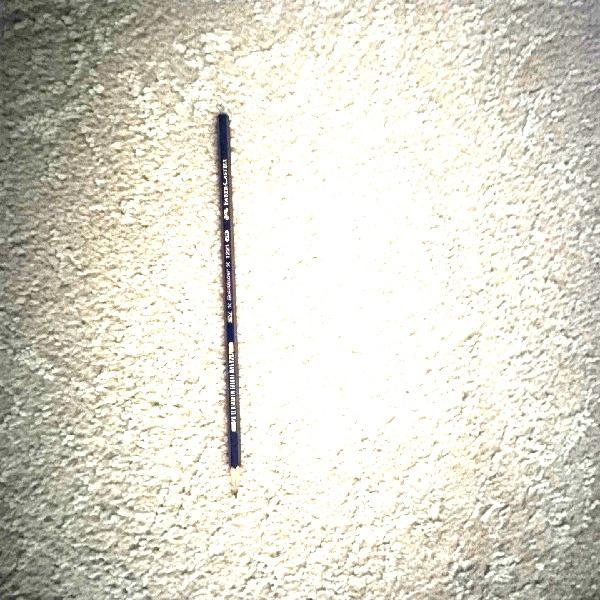pencil: (202, 112, 257, 503)
